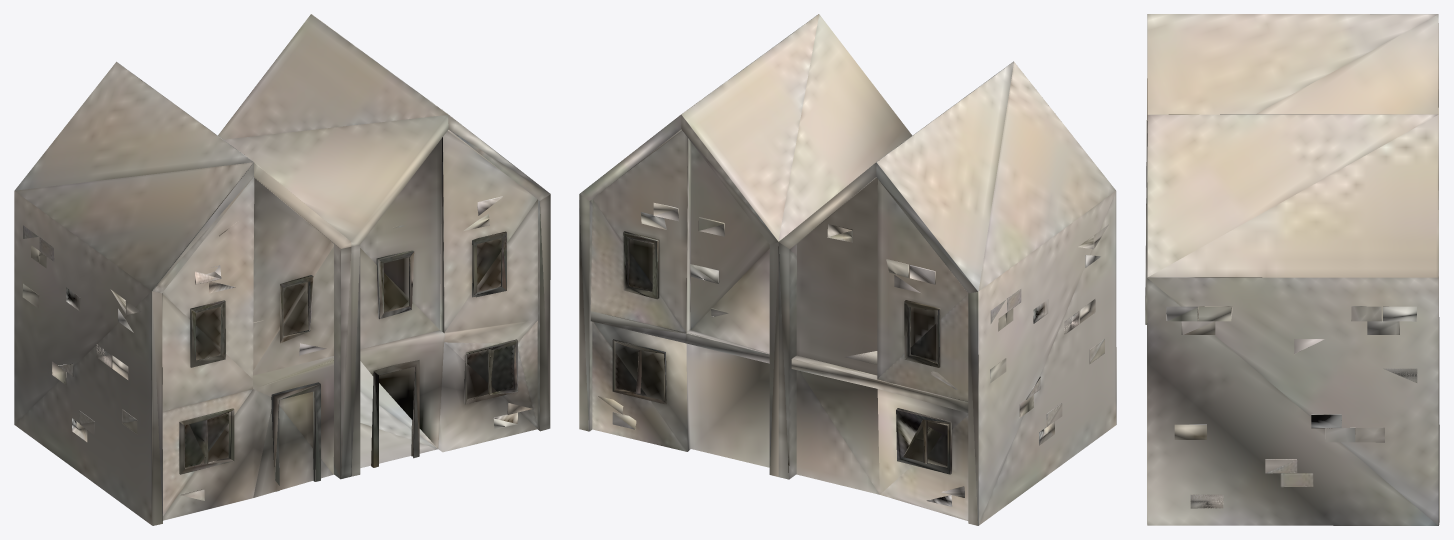
Rendered from 04-duplex-house.glb.
The picture shows the model from 3 angles, left to right: view 1: azimuth 30°, elevation 25°; view 2: azimuth 150°, elevation 25°; view 3: azimuth 270°, elevation 25°; orthographic projection. The views are drawn at different scales.
Parts seen in each view (by area): view 1: geometry_0; view 2: geometry_0; view 3: geometry_0.
Part boxes in pixels (left/top/right/bottom): geometry_0: left=14, top=14, right=550, bottom=525; geometry_0: left=579, top=14, right=1116, bottom=525; geometry_0: left=1145, top=14, right=1439, bottom=525.
Size of the model in its own units: 0.9595 by 0.7715 by 0.5737.
1 material, 1 textured.
